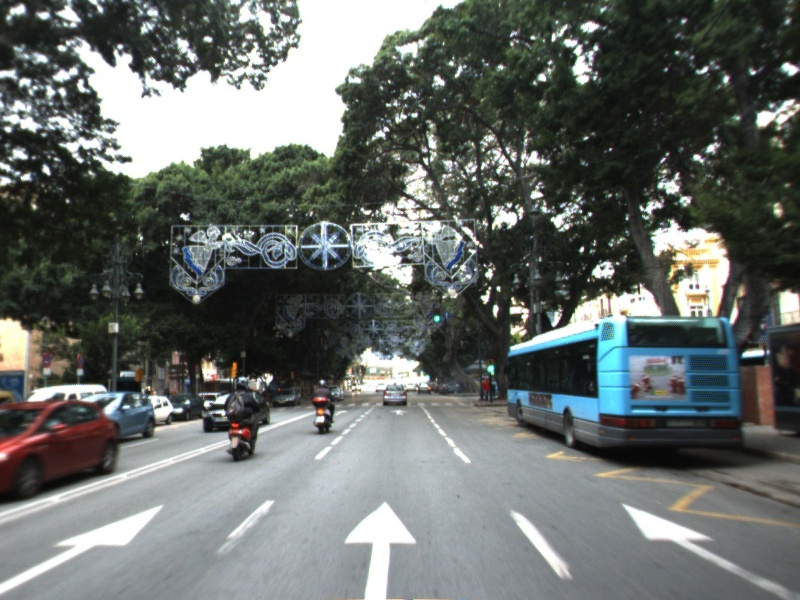STRAIGHT: (617, 500, 800, 600), (1, 500, 166, 594), (340, 497, 420, 600), (389, 407, 409, 417), (333, 408, 349, 418)
